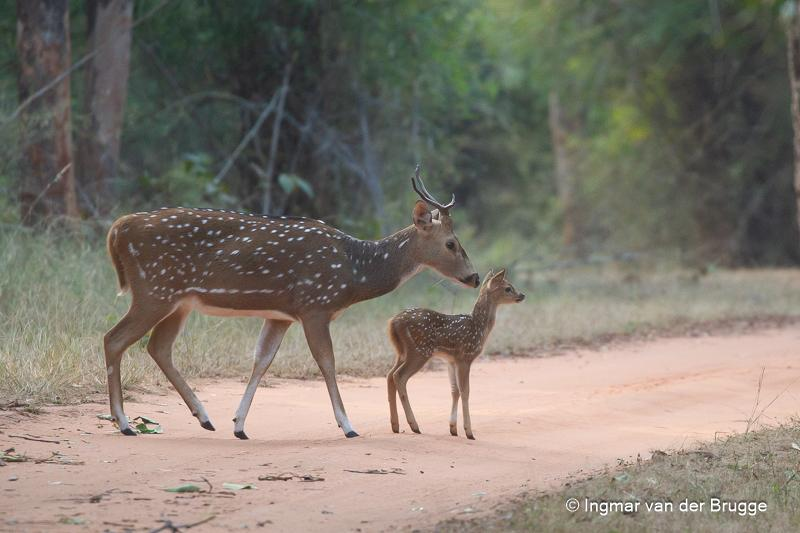Deer: (104, 165, 479, 438), (387, 269, 524, 438)
